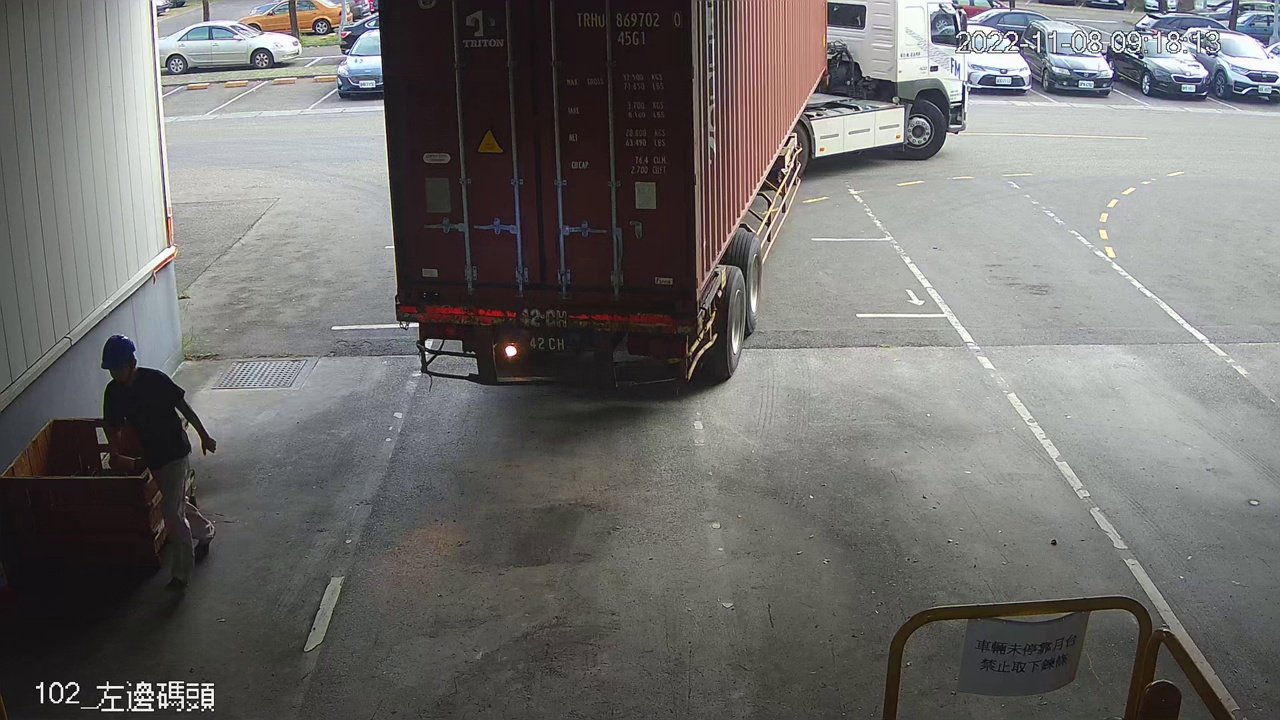container: (570, 4, 686, 52)
